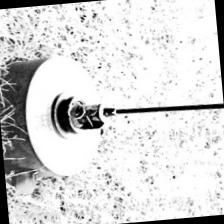M21: (0, 51, 123, 194)
